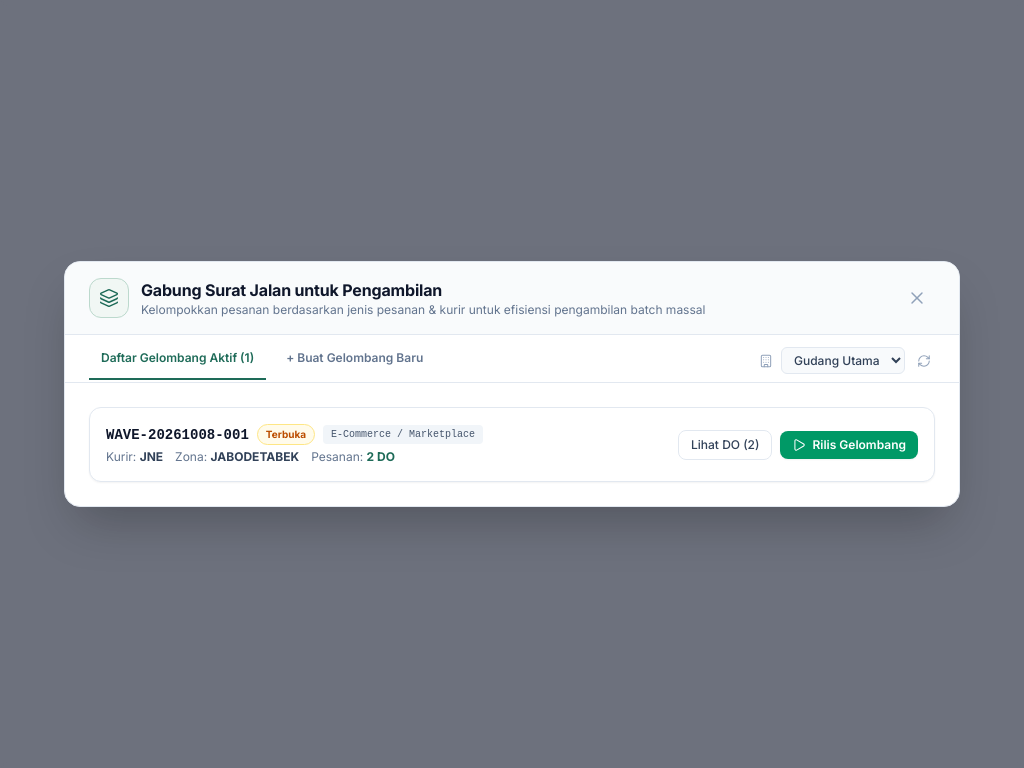
Test: WMS Outbound Components (FE-06, FE-07, FE-08, CR-02b) › WaveReleaseModal (PDF-05) › renders wave tabs and allows toggling to Create Wave form
Expected: the heading "Gabung Surat Jalan untuk Pengambilan" is shown, left=141, top=280, right=442, bottom=300
Expected: the button "Daftar Gelombang Aktif (1)" is shown, left=89, top=350, right=266, bottom=380
Click the button "+ Buat Gelombang Baru": point(355, 364) left=274, top=350, right=435, bottom=380
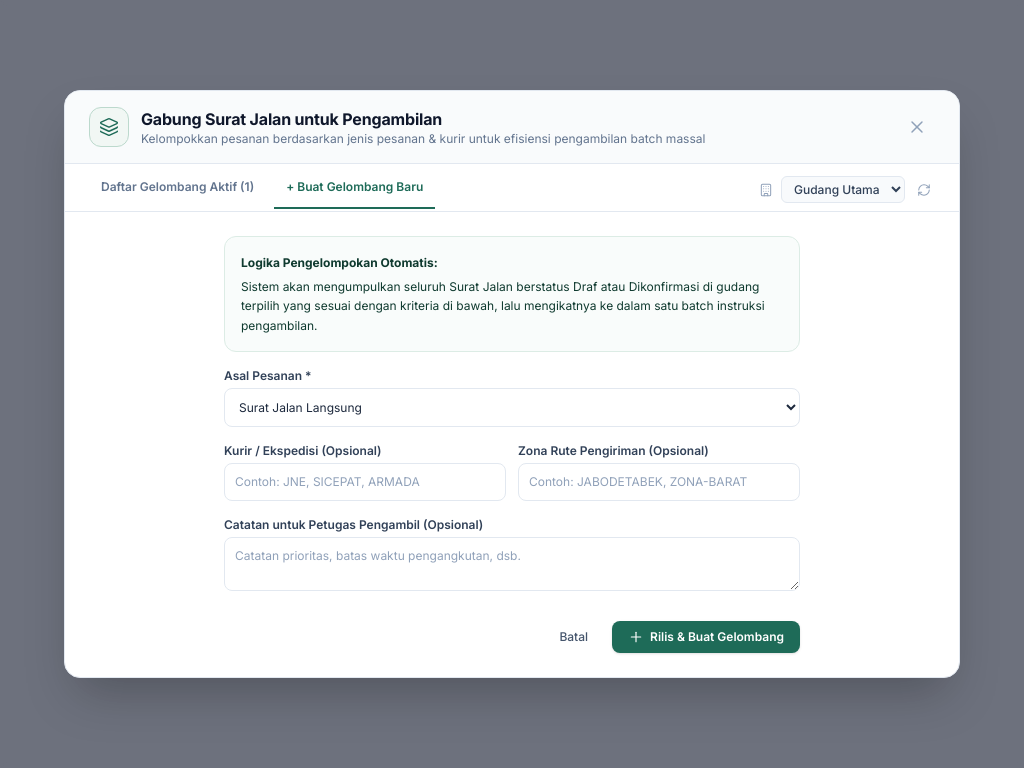
Expected: the text "Asal Pesanan *" is shown, left=224, top=368, right=312, bottom=383
